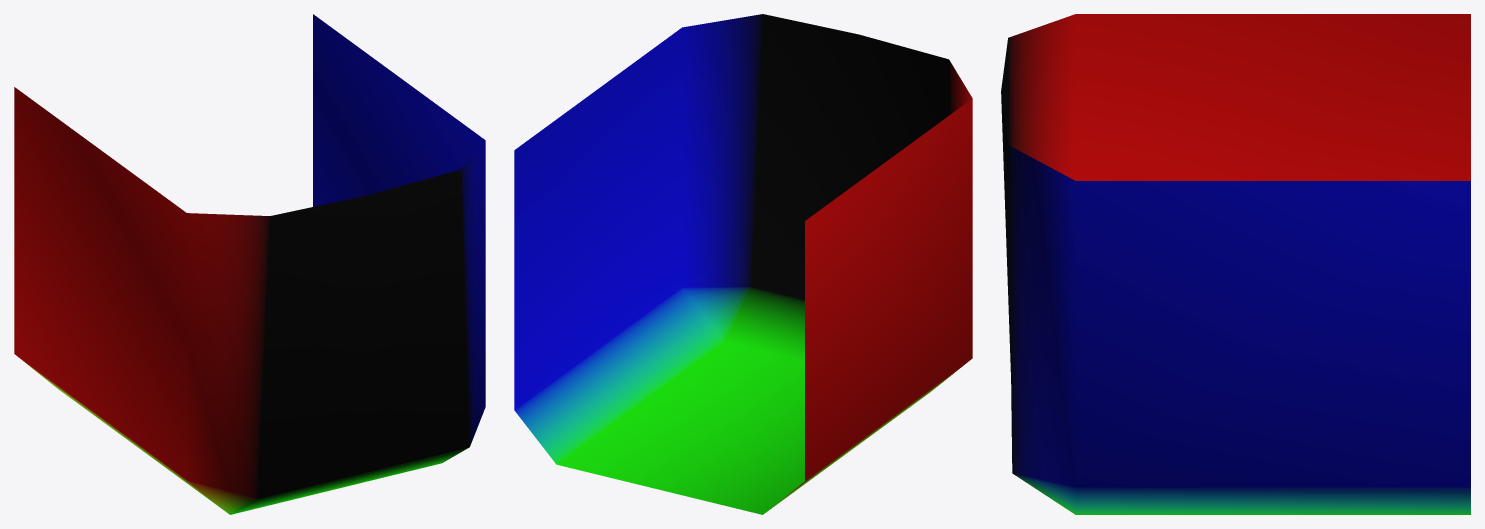
3 views of the same model, side by side, from view 1: azimuth 30°, elevation 25°; view 2: azimuth 150°, elevation 25°; view 3: azimuth 270°, elevation 25° (orthographic). The views are drawn at different scales.
Visible parts, largest first — view 1: Box001; view 2: Box001; view 3: Box001.
Boxes of the visible parts, box(x1,y1,x2,y2) form: Box001: box(14, 14, 485, 514); Box001: box(514, 14, 972, 514); Box001: box(1001, 14, 1470, 514).
Bounding box in the file's own units: 10 × 10.17 × 11.89.
